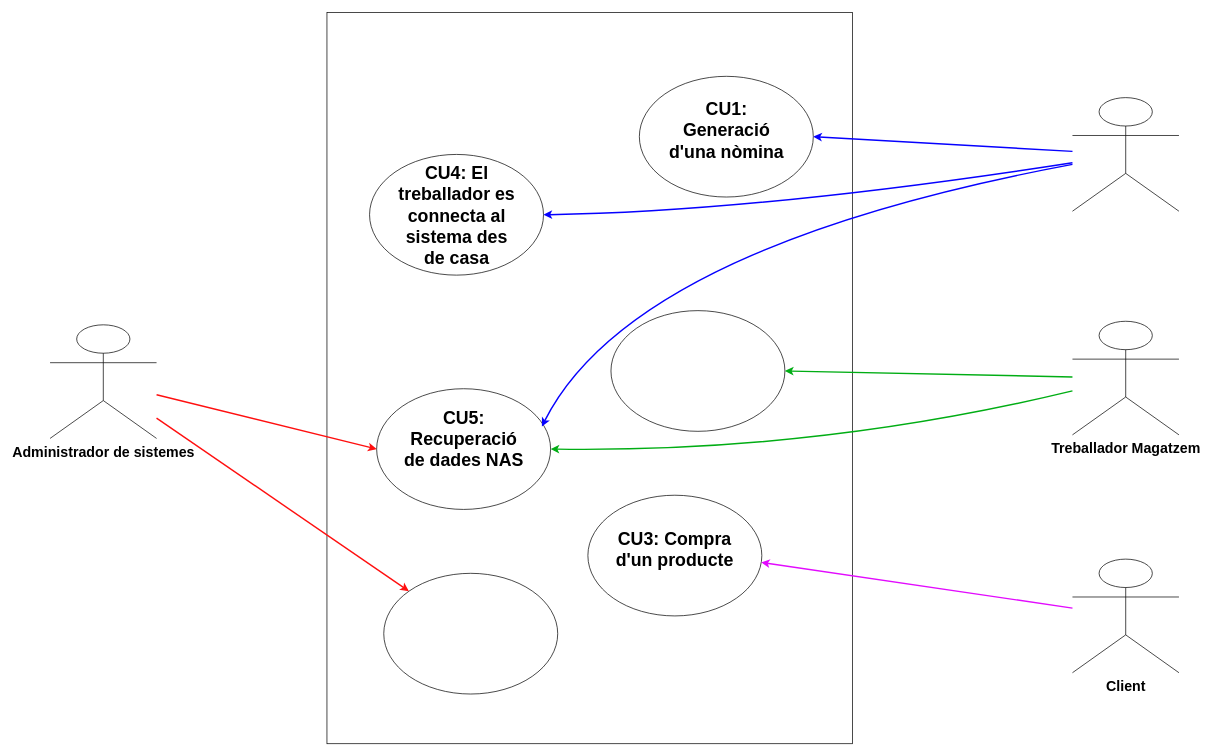
The diagram is 1213 pixels wide and 756 high, and some of its shapes have lost their labels. The shapes that lost their labels are listed below. From the top down, each one's centre as x and y in pixels, then its label:
the point at 1125,154: Treballador RH
the point at 697,370: CU2: Gestió d'inventari
the point at 470,633: CU6: Recuperació de dades núvol
